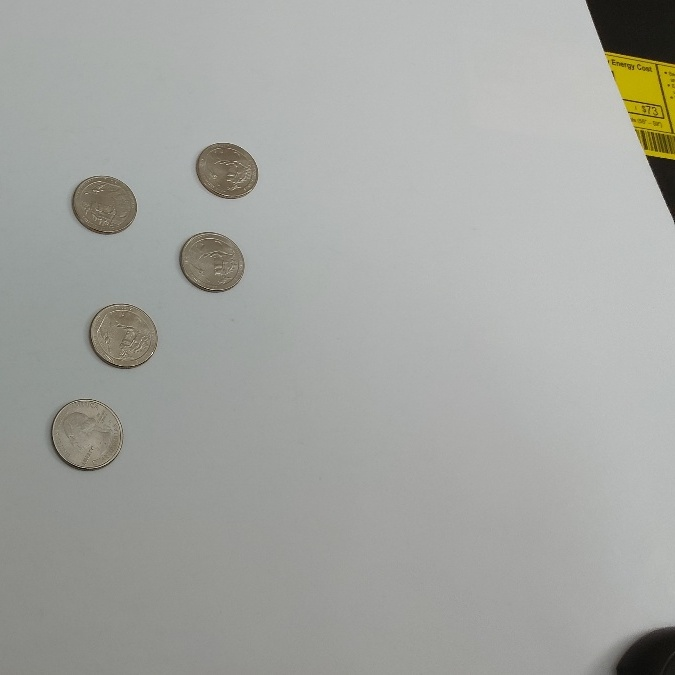coin_quarter: (43, 395, 128, 475), (83, 295, 161, 370), (173, 225, 253, 293), (64, 162, 138, 234), (194, 136, 263, 206)
